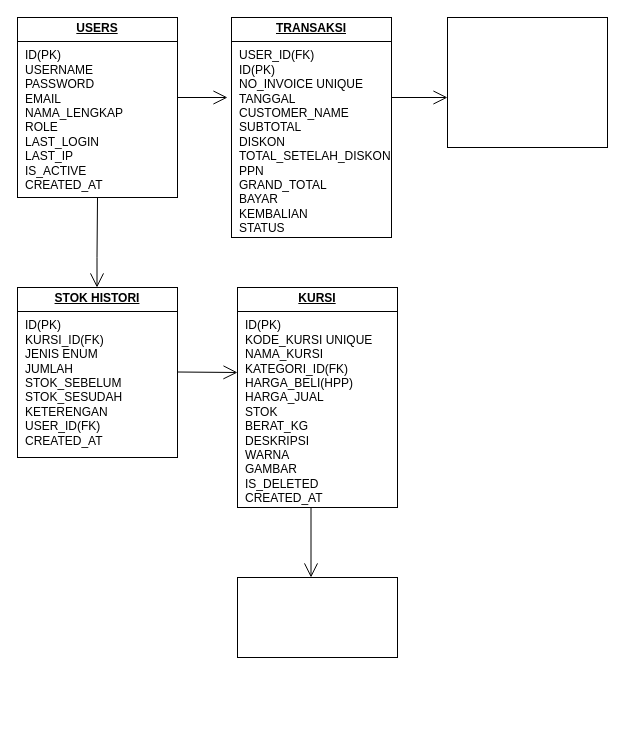
The diagram is 625 pixels wide and 749 high, and some of its shapes have lost their labels. The shapes that lost their labels are listed below. From the top down, each one's centre as x and y in pixels, then its label:
point (527, 82): DETAIL_TRANSAKSI ID(PK) TRANSAKSI_ID(FK) KURSI_ID(FK) JUMLAH HARGA_JUAL SUBTOTAL
point (317, 617): KATEGORI ID NAMA_KATEGORI DESKRIPSI
